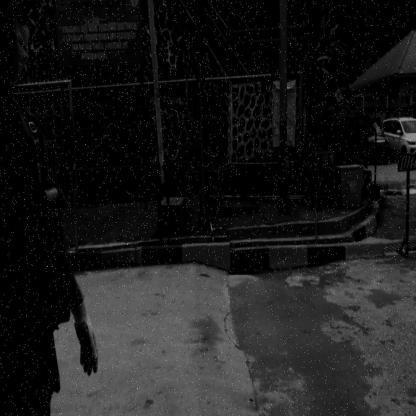gloves: (72, 298, 102, 384)
goggles: (0, 0, 33, 23)
mask: (1, 16, 32, 91)
vest: (0, 185, 71, 366)
